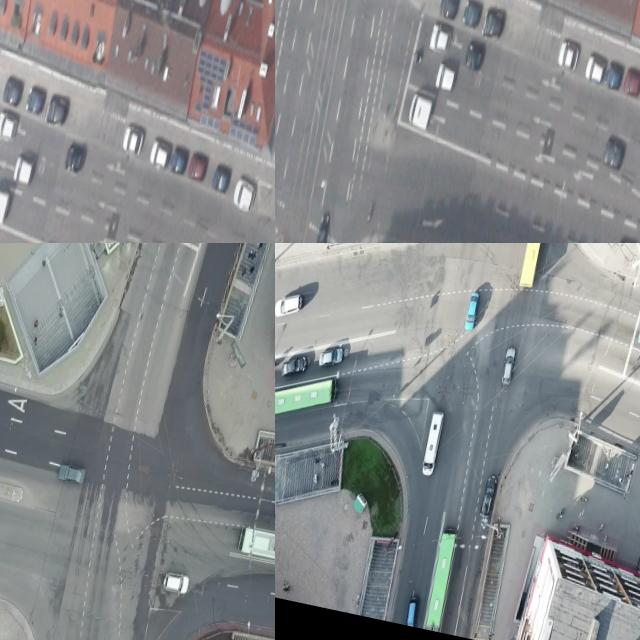UAI: (230, 175, 258, 213), (600, 134, 627, 170), (275, 289, 303, 321), (44, 92, 70, 126), (427, 22, 453, 55), (481, 5, 506, 39), (11, 153, 35, 187), (279, 352, 308, 380), (161, 569, 191, 596), (56, 461, 87, 487), (309, 208, 332, 243), (1, 74, 26, 106), (479, 473, 496, 518), (499, 345, 518, 385), (463, 38, 486, 71), (583, 54, 608, 84), (463, 290, 481, 331), (209, 161, 232, 193), (317, 345, 345, 371), (63, 140, 87, 170), (120, 125, 144, 154), (556, 42, 580, 71), (434, 62, 457, 92), (148, 140, 171, 169), (187, 150, 209, 180), (168, 144, 190, 174), (460, 0, 482, 30), (24, 84, 45, 114), (604, 60, 625, 90), (0, 110, 19, 143), (622, 65, 640, 95), (437, 0, 461, 20), (613, 235, 640, 243)
car: (421, 526, 462, 630), (275, 365, 337, 430), (515, 243, 566, 289), (236, 525, 275, 566)
harvester: (419, 409, 445, 477), (406, 92, 434, 130), (0, 184, 11, 225)
